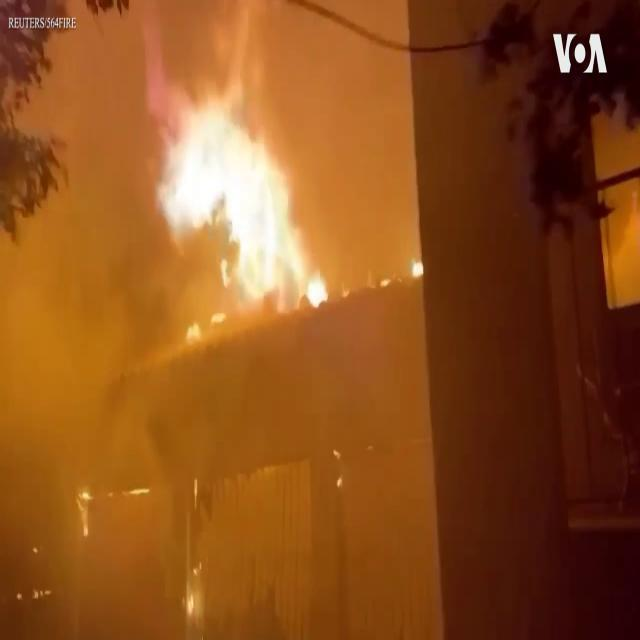Fire: (136, 48, 329, 318)
Smoke: (0, 3, 158, 528)
